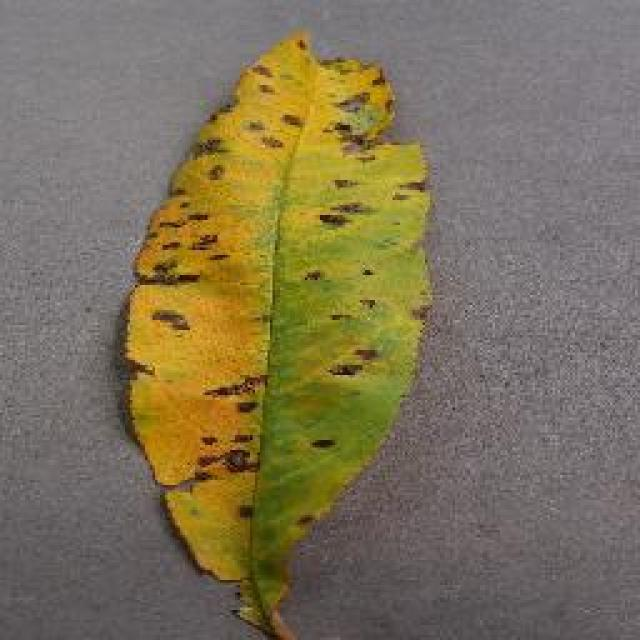Peach_Bacterial_Spot: (195, 88, 387, 572)
